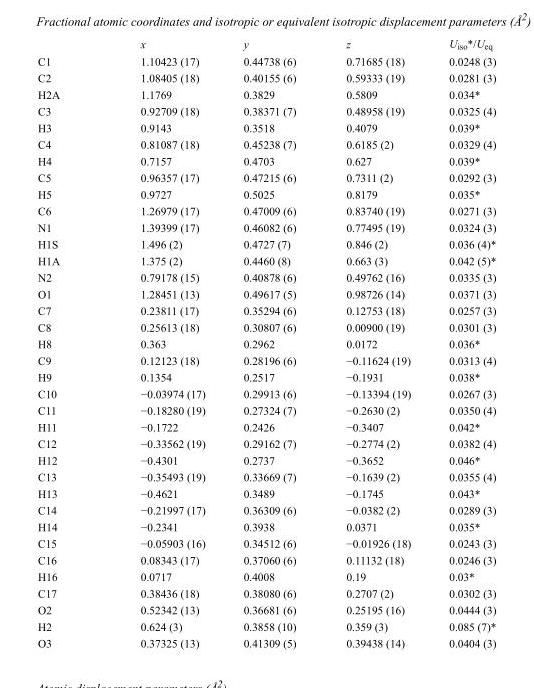table: (37, 36, 495, 648)
table column: (99, 36, 223, 648), (320, 36, 429, 648), (223, 36, 320, 648), (429, 36, 495, 648), (37, 36, 99, 648)
table column header: (37, 36, 495, 52)
table row: (37, 52, 495, 69), (37, 85, 495, 102), (37, 102, 495, 119), (37, 135, 495, 152), (37, 168, 495, 185), (37, 185, 495, 202), (37, 218, 495, 235), (37, 235, 495, 252), (37, 268, 495, 285), (37, 301, 495, 318), (37, 318, 495, 335), (37, 351, 495, 368), (37, 368, 495, 385), (37, 401, 495, 418), (37, 434, 495, 451), (37, 451, 495, 468), (37, 484, 495, 501), (37, 501, 495, 518), (37, 534, 495, 551), (37, 567, 495, 584), (37, 584, 495, 601), (37, 617, 495, 634), (37, 36, 495, 52), (37, 69, 495, 85), (37, 119, 495, 135), (37, 152, 495, 168), (37, 202, 495, 218), (37, 252, 495, 268), (37, 285, 495, 301), (37, 335, 495, 351), (37, 385, 495, 401), (37, 418, 495, 434), (37, 468, 495, 484), (37, 518, 495, 534), (37, 551, 495, 567), (37, 601, 495, 617), (37, 634, 495, 648)
